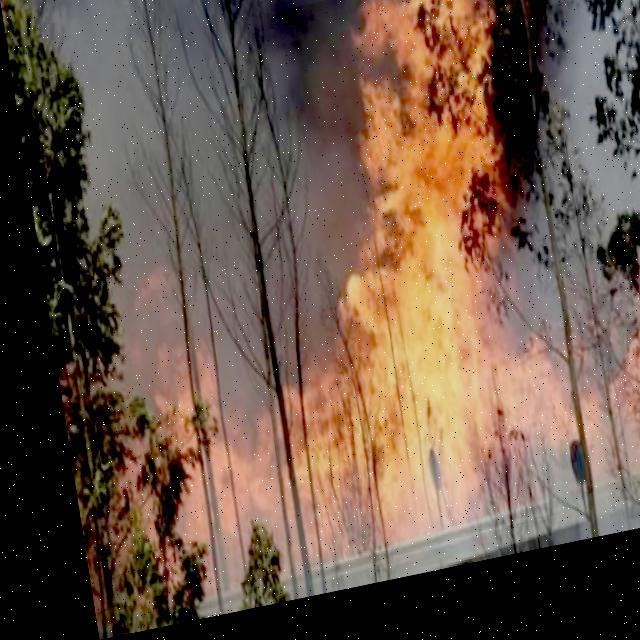Fire: (70, 0, 639, 591)
